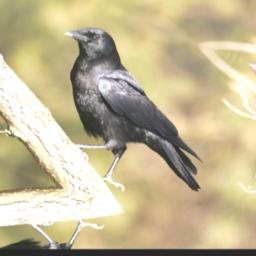Crow: (0, 15, 256, 219)
